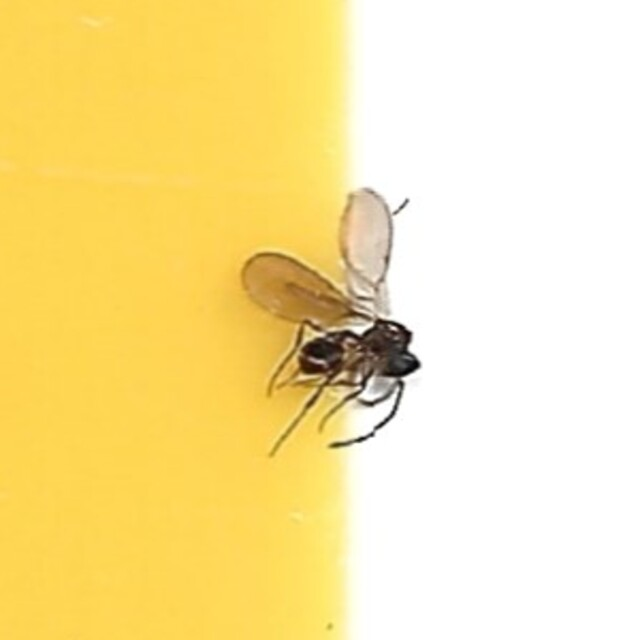Hymenoptera: (213, 188, 427, 452)
